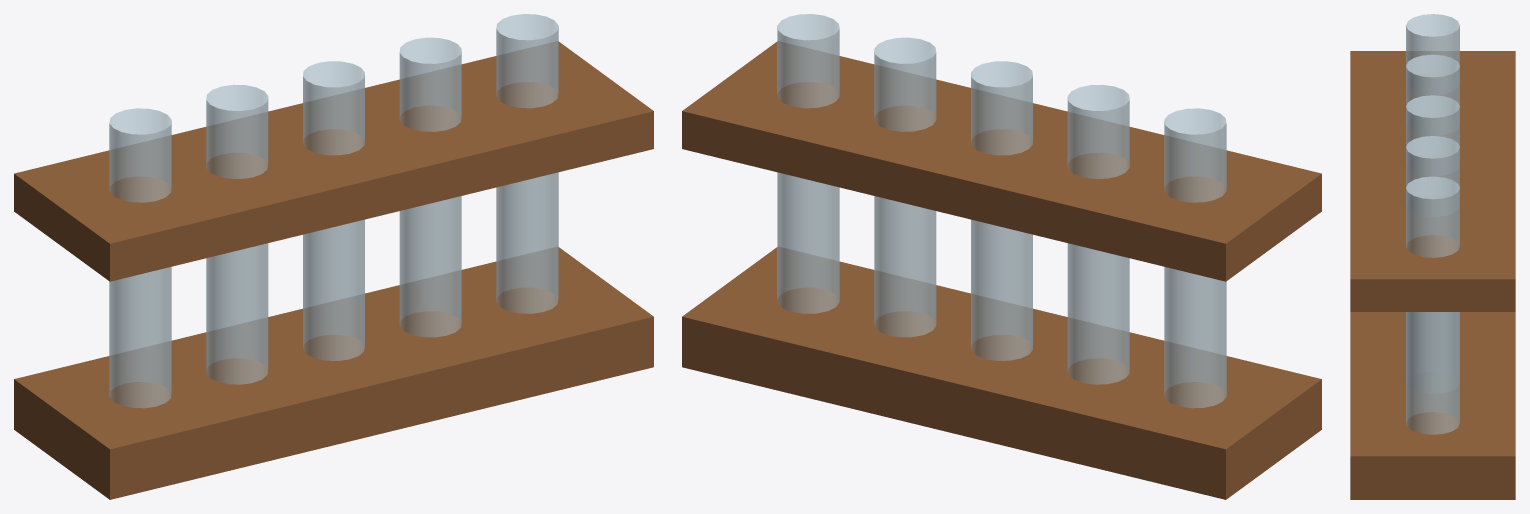
File: TestTubeRack.obj
3 renders of one model, left to right at view 1: azimuth 30°, elevation 25°; view 2: azimuth 150°, elevation 25°; view 3: azimuth 270°, elevation 25°, orthographic. The views are drawn at different scales.
Visible parts, largest first — view 1: Base, TopRail, Tube_1, Tube_5, Tube_4, Tube_2, Tube_3; view 2: Base, TopRail, Tube_1, Tube_5, Tube_4, Tube_2, Tube_3; view 3: TopRail, Base, Tube_5, Tube_4, Tube_1, Tube_2, Tube_3.
Part boxes in pixels (x1,y1,x2,y2): Base: [14, 247, 653, 499]; TopRail: [14, 41, 653, 281]; Tube_1: [109, 108, 171, 408]; Tube_5: [496, 14, 558, 313]; Tube_4: [399, 37, 461, 337]; Tube_2: [206, 84, 268, 384]; Tube_3: [303, 61, 364, 360]; Base: [682, 247, 1321, 499]; TopRail: [682, 41, 1321, 281]; Tube_1: [1164, 108, 1226, 408]; Tube_5: [777, 14, 839, 313]; Tube_4: [874, 37, 936, 337]; Tube_2: [1067, 84, 1129, 384]; Tube_3: [971, 61, 1032, 360]; TopRail: [1350, 51, 1515, 311]; Base: [1350, 312, 1515, 499]; Tube_5: [1406, 176, 1459, 434]; Tube_4: [1406, 136, 1459, 187]; Tube_1: [1406, 14, 1459, 65]; Tube_2: [1406, 54, 1459, 106]; Tube_3: [1406, 95, 1459, 146].
Bounding box in the file's own units: 1.8 × 1.02 × 0.55.
